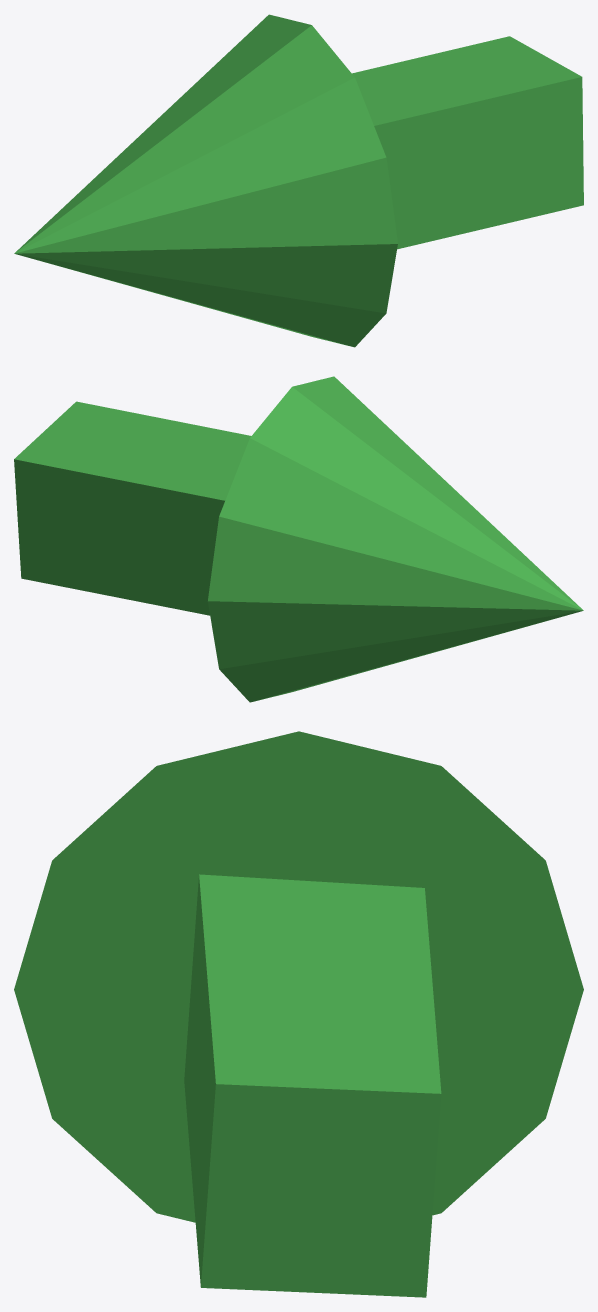
Rendered from arrow_3d.fbx.
3 renders of one model, top to bottom at view 1: azimuth 30°, elevation 25°; view 2: azimuth 150°, elevation 25°; view 3: azimuth 270°, elevation 25°, orthographic. The views are drawn at different scales.
Parts seen in each view (by area): view 1: mesh_546483871, mesh_1902505079; view 2: mesh_546483871, mesh_1902505079; view 3: mesh_546483871, mesh_1902505079.
Boxes of the visible parts, left/top/right/bottom form: mesh_546483871: left=14, top=14, right=397, bottom=347; mesh_1902505079: left=352, top=36, right=583, bottom=249; mesh_546483871: left=208, top=376, right=583, bottom=702; mesh_1902505079: left=14, top=401, right=251, bottom=615; mesh_546483871: left=14, top=731, right=583, bottom=1222; mesh_1902505079: left=184, top=874, right=441, bottom=1297.
Size of the model in its own units: 36.46 by 20 by 20.
